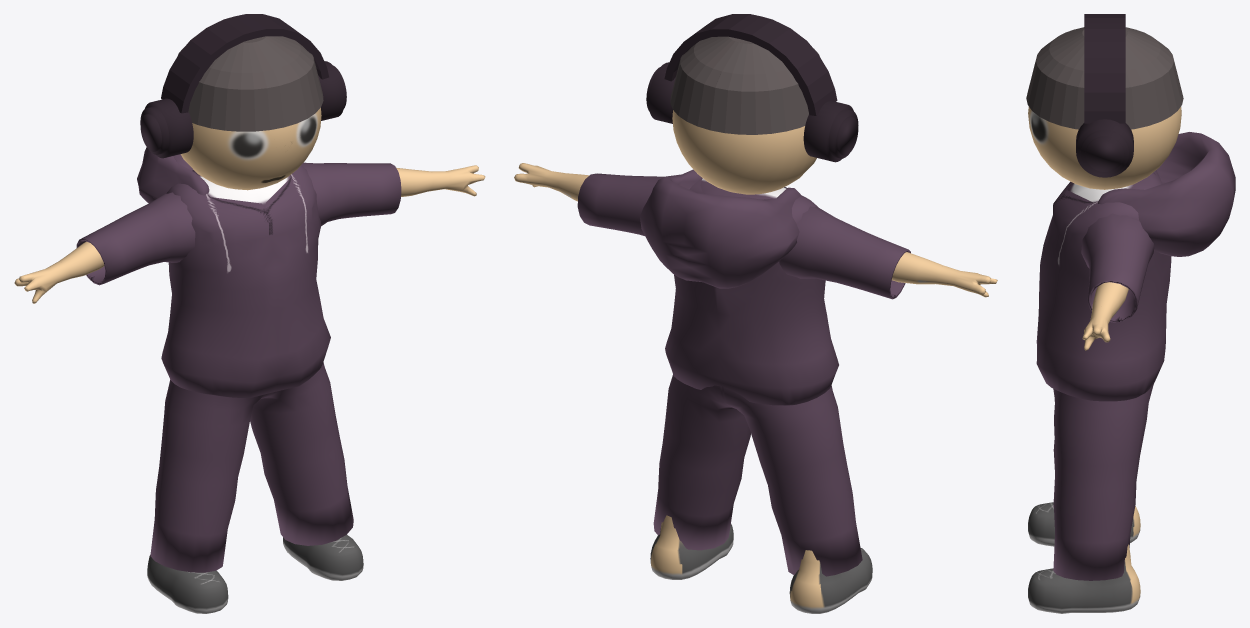
The model's file is character_broadcast.fbx.
3 renders of one model, left to right at view 1: azimuth 30°, elevation 25°; view 2: azimuth 150°, elevation 25°; view 3: azimuth 270°, elevation 25°, orthographic. The views are drawn at different scales.
Parts seen in each view (by area): view 1: Cube.002, CLOTHES.015, Cylinder.010, BODY.017, HEAD.018; view 2: Cube.002, CLOTHES.015, Cylinder.010, BODY.017, HEAD.018; view 3: Cube.002, CLOTHES.015, Cylinder.010, BODY.017, HEAD.018.
Boxes of the visible parts, <box> form: Cube.002: <box>76,14,401,572</box>; CLOTHES.015: <box>161,165,330,398</box>; Cylinder.010: <box>178,36,323,131</box>; BODY.017: <box>14,165,485,613</box>; HEAD.018: <box>180,107,321,190</box>; Cube.002: <box>577,14,910,576</box>; CLOTHES.015: <box>665,178,838,405</box>; Cylinder.010: <box>670,36,819,134</box>; BODY.017: <box>514,163,997,613</box>; HEAD.018: <box>672,110,816,194</box>; Cube.002: <box>1053,14,1235,580</box>; CLOTHES.015: <box>1036,170,1171,401</box>; Cylinder.010: <box>1026,27,1183,129</box>; BODY.017: <box>1028,282,1140,613</box>; HEAD.018: <box>1028,106,1181,189</box>.
Size of the model in its own units: 377 by 430 by 148.
